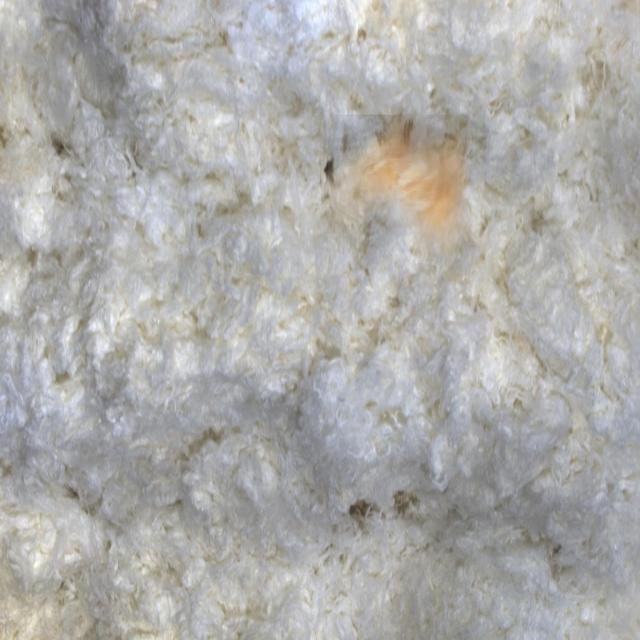dust: (328, 115, 468, 256)
